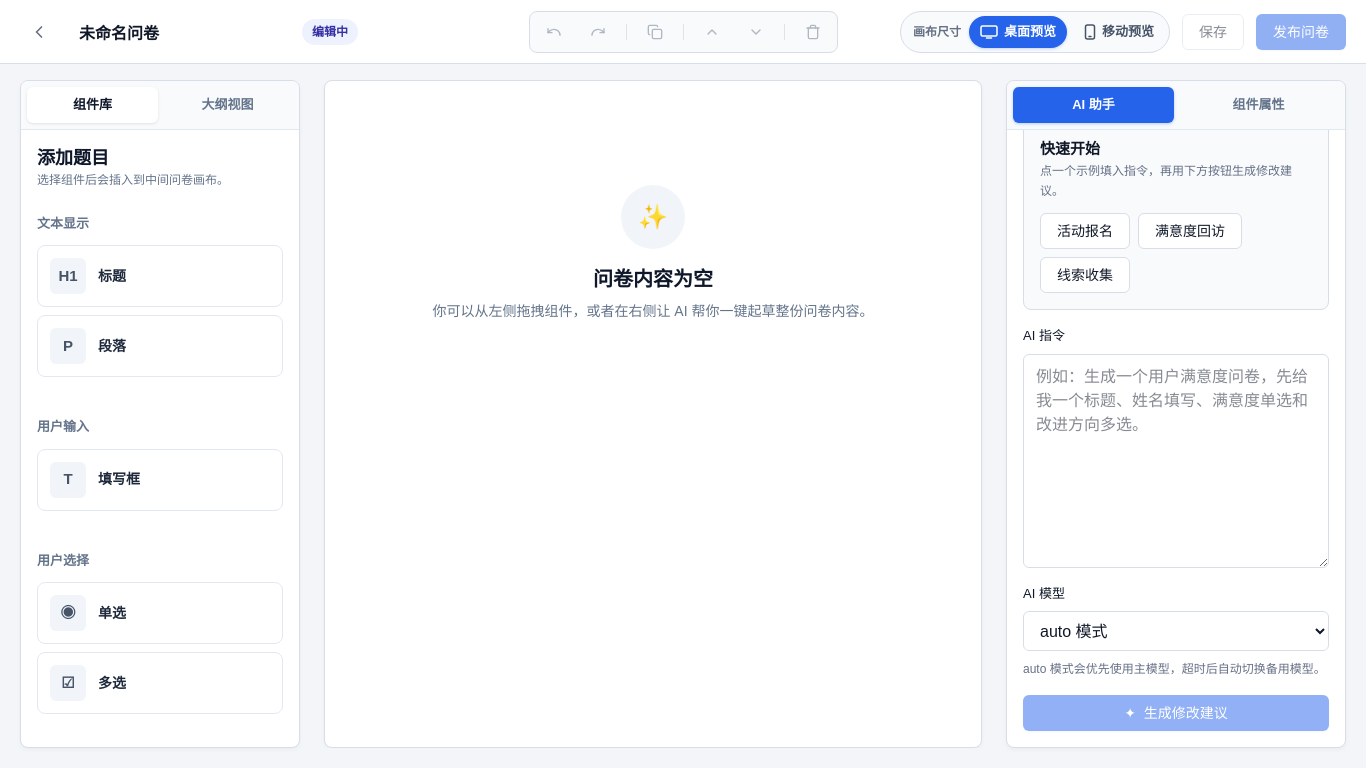
Test: EditorShell › shows the AI model selector only when multiple models are configured and posts the chosen model
(page scrolled)
Select "备用模型 · 本地服务" in the dropdown labelled "AI 模型" at (1176, 631), box [1023,611,1329,651]
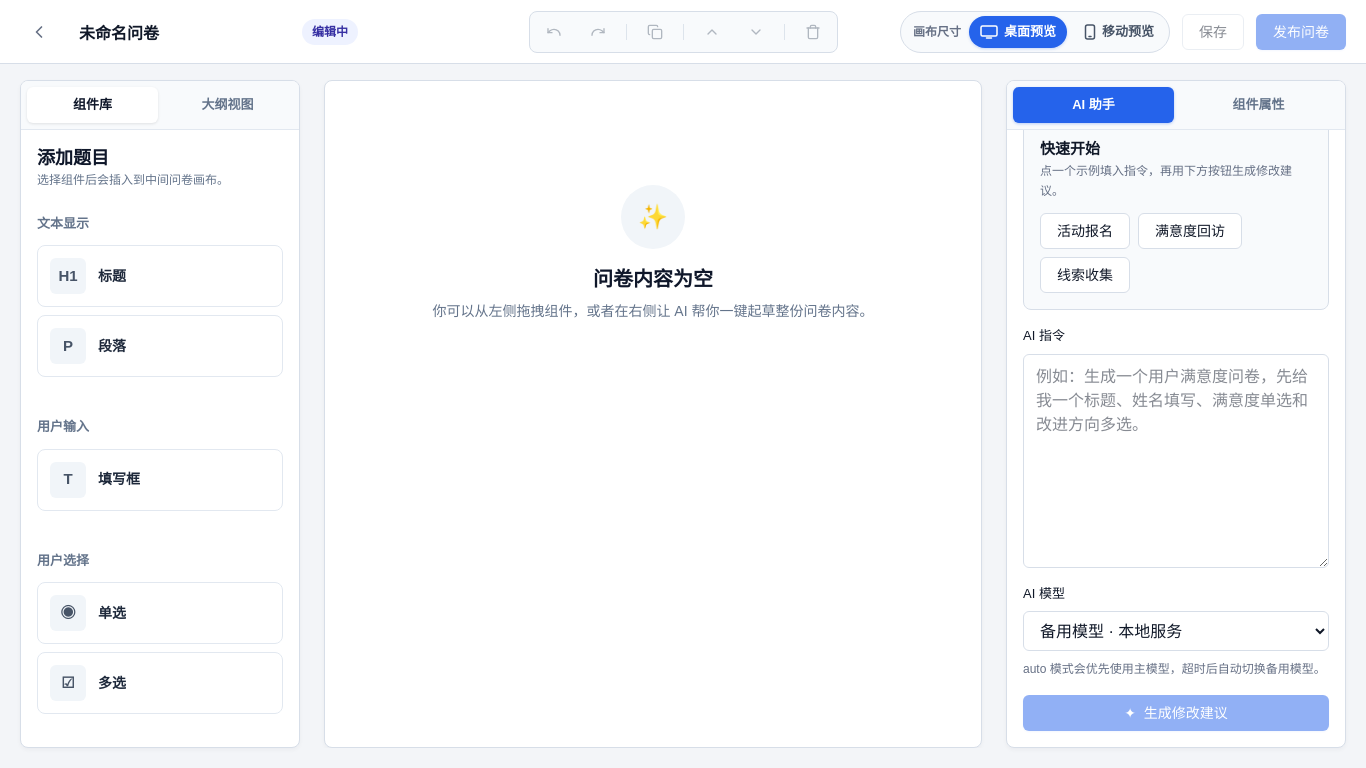
Type "生成一个活动报名问卷" into the text box named "AI prompt" at (1176, 460), box [1023,354,1329,568]
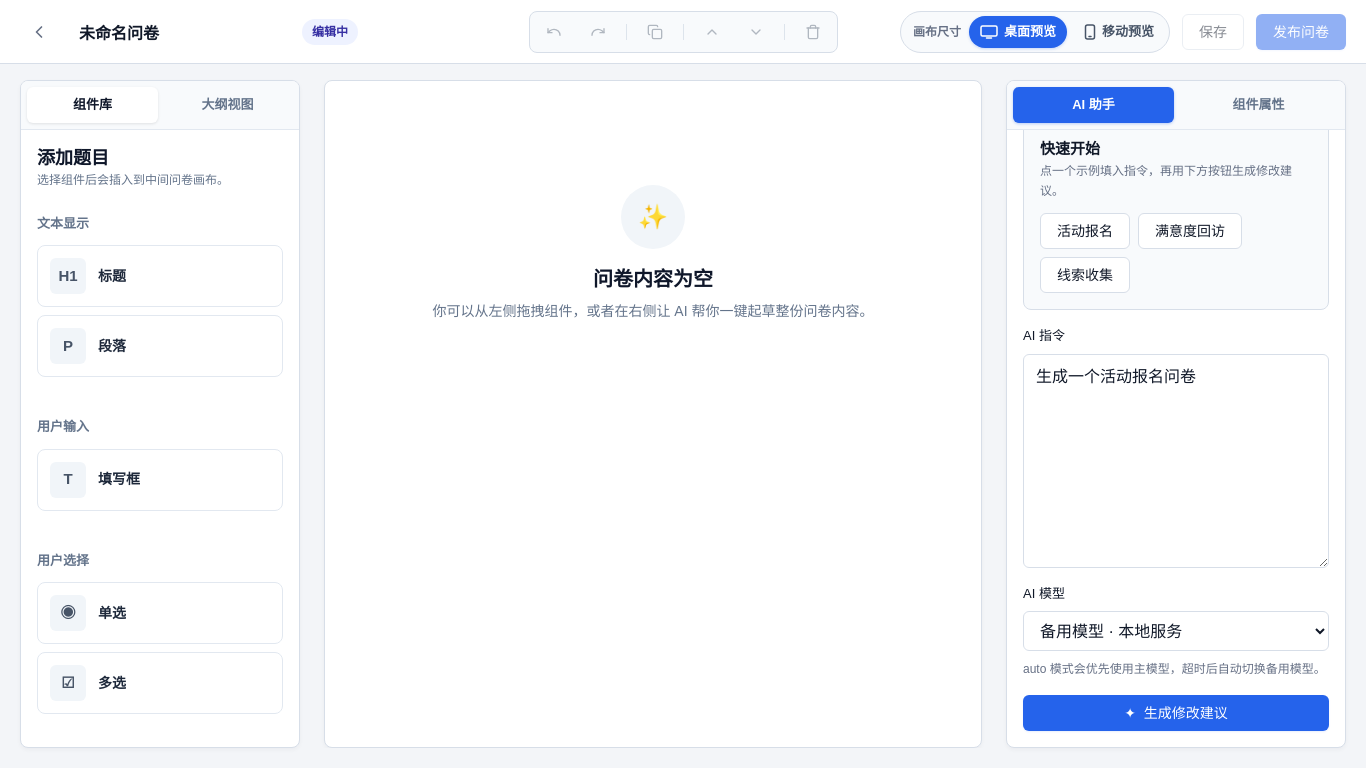
Click the button "✦ 生成修改建议" at (1176, 713), box [1023,695,1329,731]
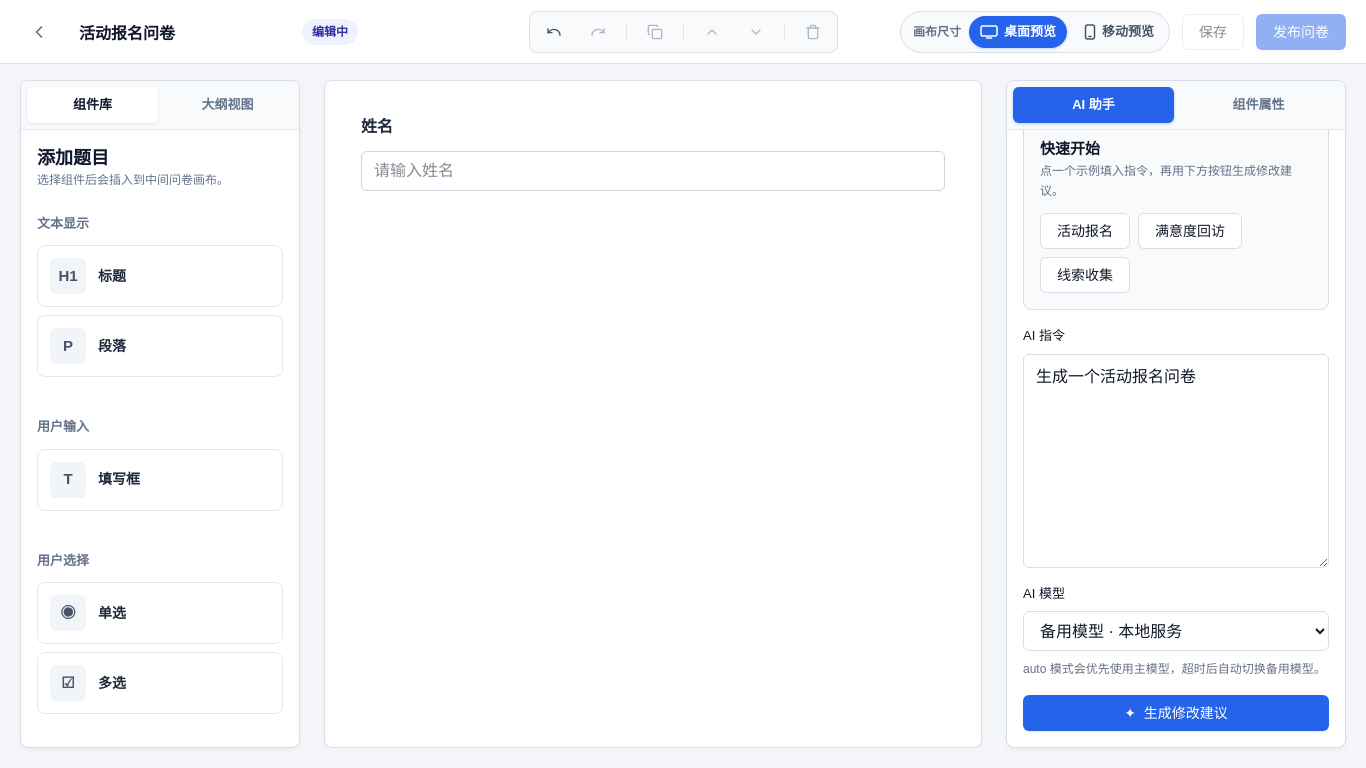
Result: the field labelled "姓名" is shown at [361,151,945,191]
